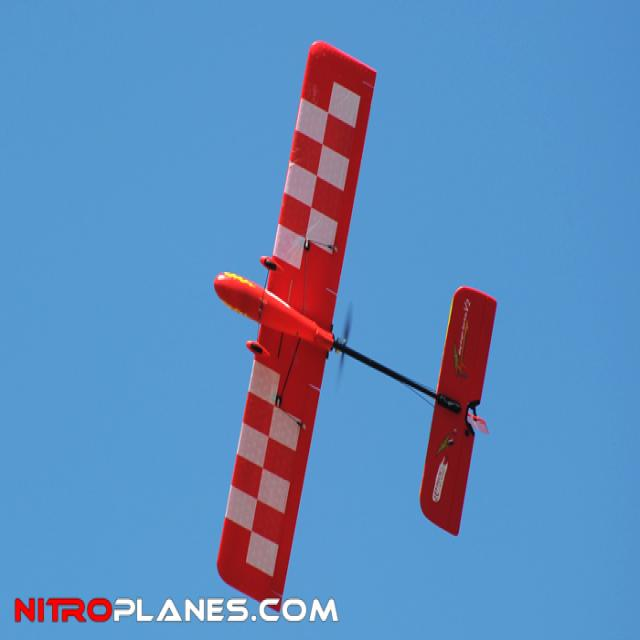iha: (207, 43, 501, 602)
